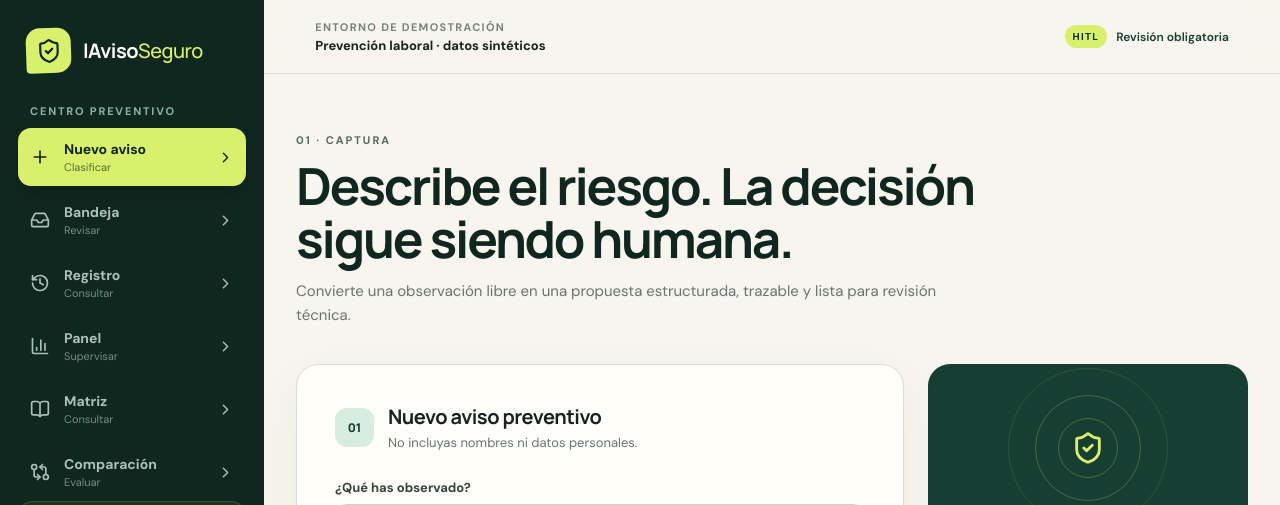
Test: IAviso Seguro › muestra N/A cuando no existen propuestas con política versionada
Click the button "Panel Supervisar": (132, 346) [18,317,246,375]
(page scrolled)
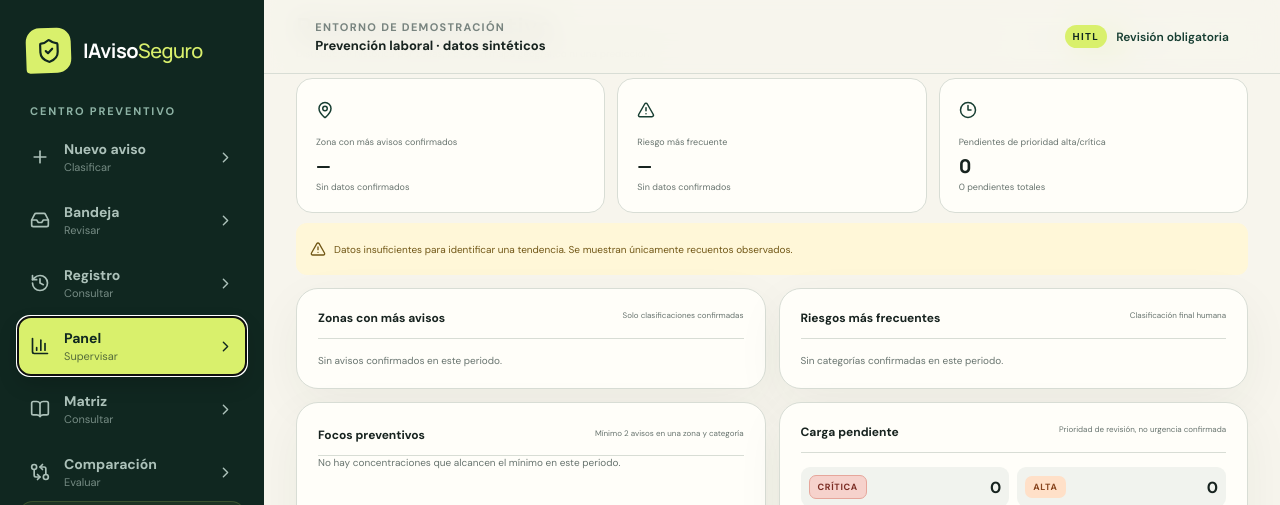
Expected: the text "Datos insuficientes para identificar una tendencia" is shown, [334,242,792,256]
Expected: the text "Sin avisos confirmados en este periodo." is shown, [318,354,502,367]
